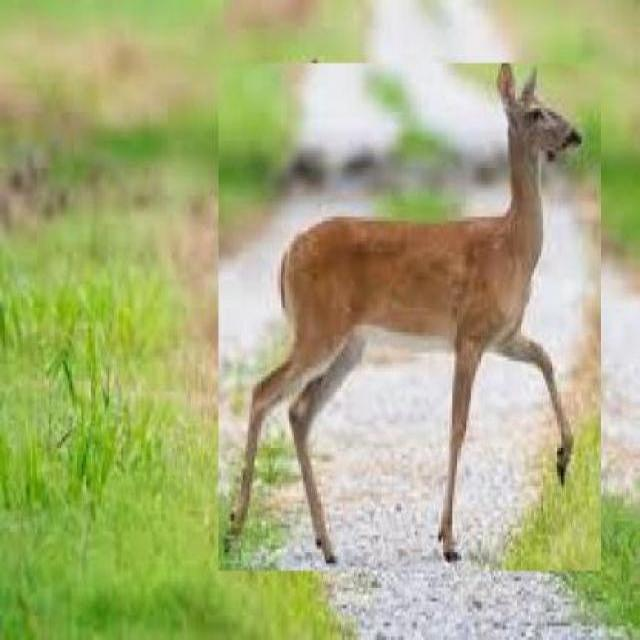deer: (218, 63, 602, 572)
